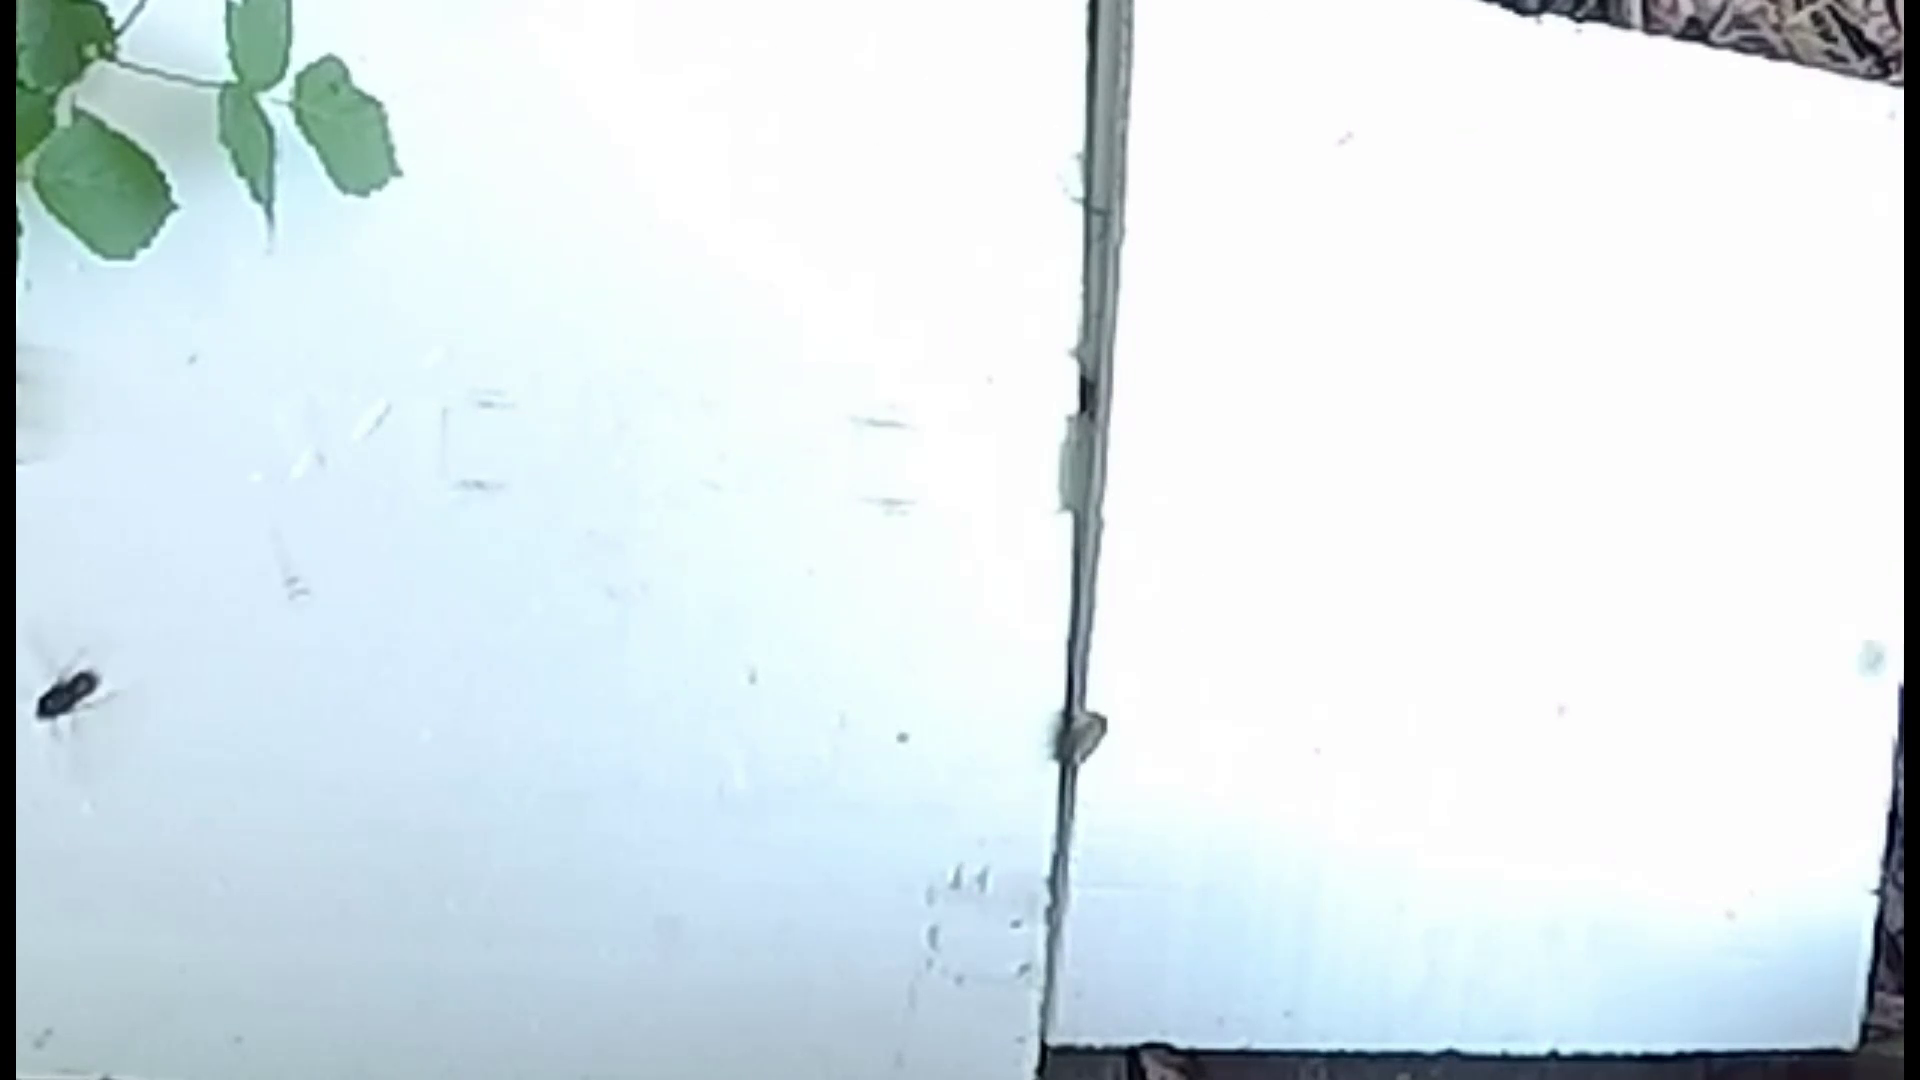Asian_hornets: (15, 632, 137, 760)
